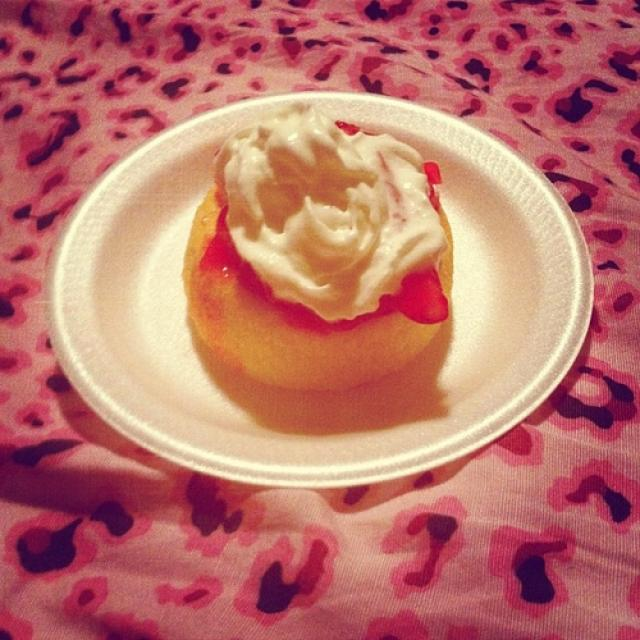蛋糕甜品: (172, 101, 480, 437)
